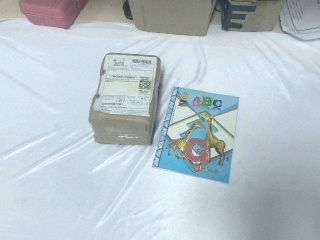book: (146, 83, 243, 187)
box: (87, 52, 162, 147), (124, 1, 218, 39), (217, 1, 289, 35)
